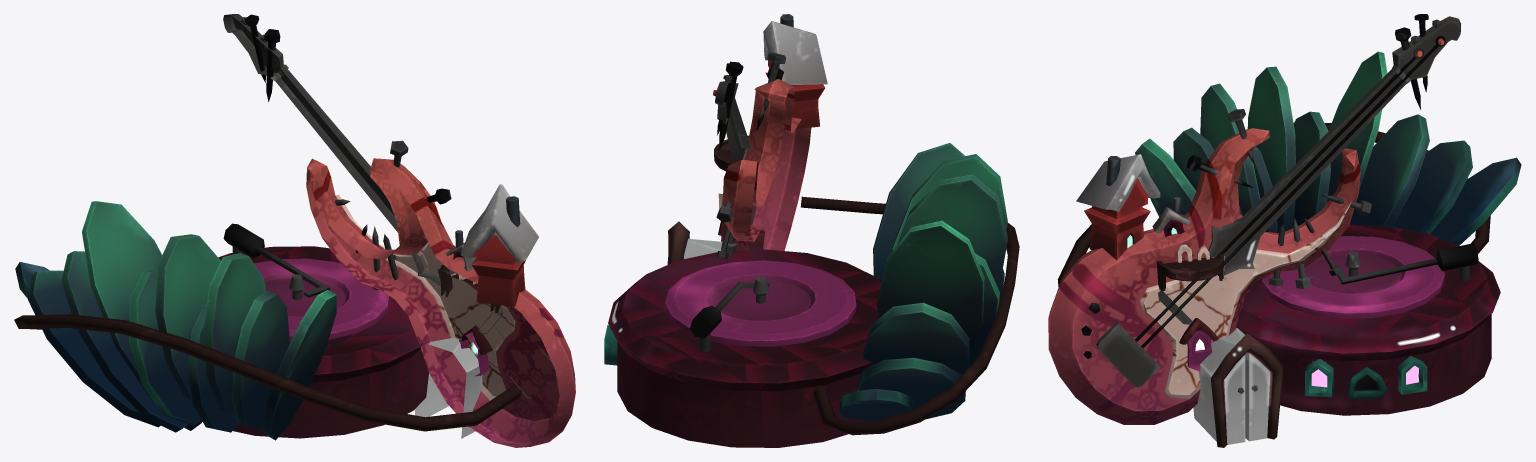
File: base_music.fbx
3 renders of one model, left to right at view 1: azimuth 30°, elevation 25°; view 2: azimuth 150°, elevation 25°; view 3: azimuth 270°, elevation 25°, orthographic. The views are drawn at different scales.
Visible parts, largest first — view 1: base_music; view 2: base_music; view 3: base_music.
Part boxes in pixels (left/top/right/bottom): base_music: left=14, top=14, right=575, bottom=447; base_music: left=604, top=14, right=1019, bottom=447; base_music: left=1048, top=14, right=1521, bottom=447.
Bounding box in the file's own units: 3572 × 3140 × 3751.
1 material, 1 textured.
